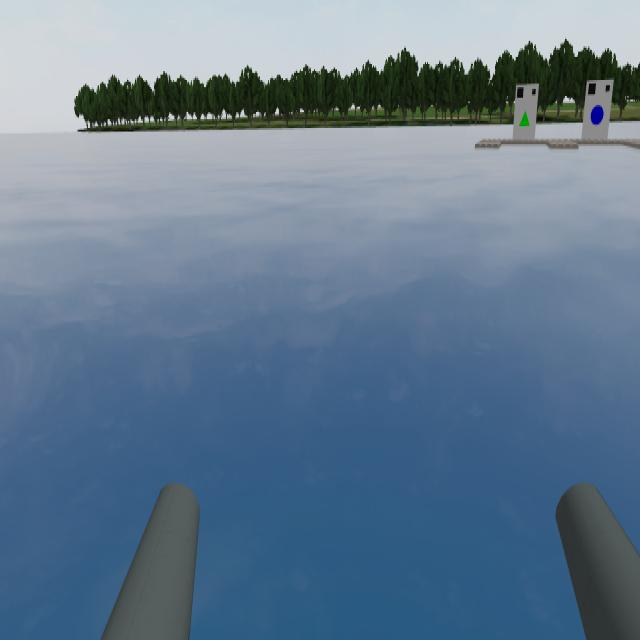dock: (585, 79, 610, 139), (514, 87, 536, 141)
